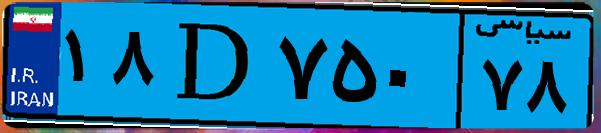0: (385, 28, 445, 110)
1: (57, 26, 110, 100)
5: (330, 28, 385, 110)
7: (270, 28, 330, 110), (475, 38, 525, 113)
8: (525, 38, 570, 115), (110, 28, 158, 98)
D: (158, 12, 270, 120)
